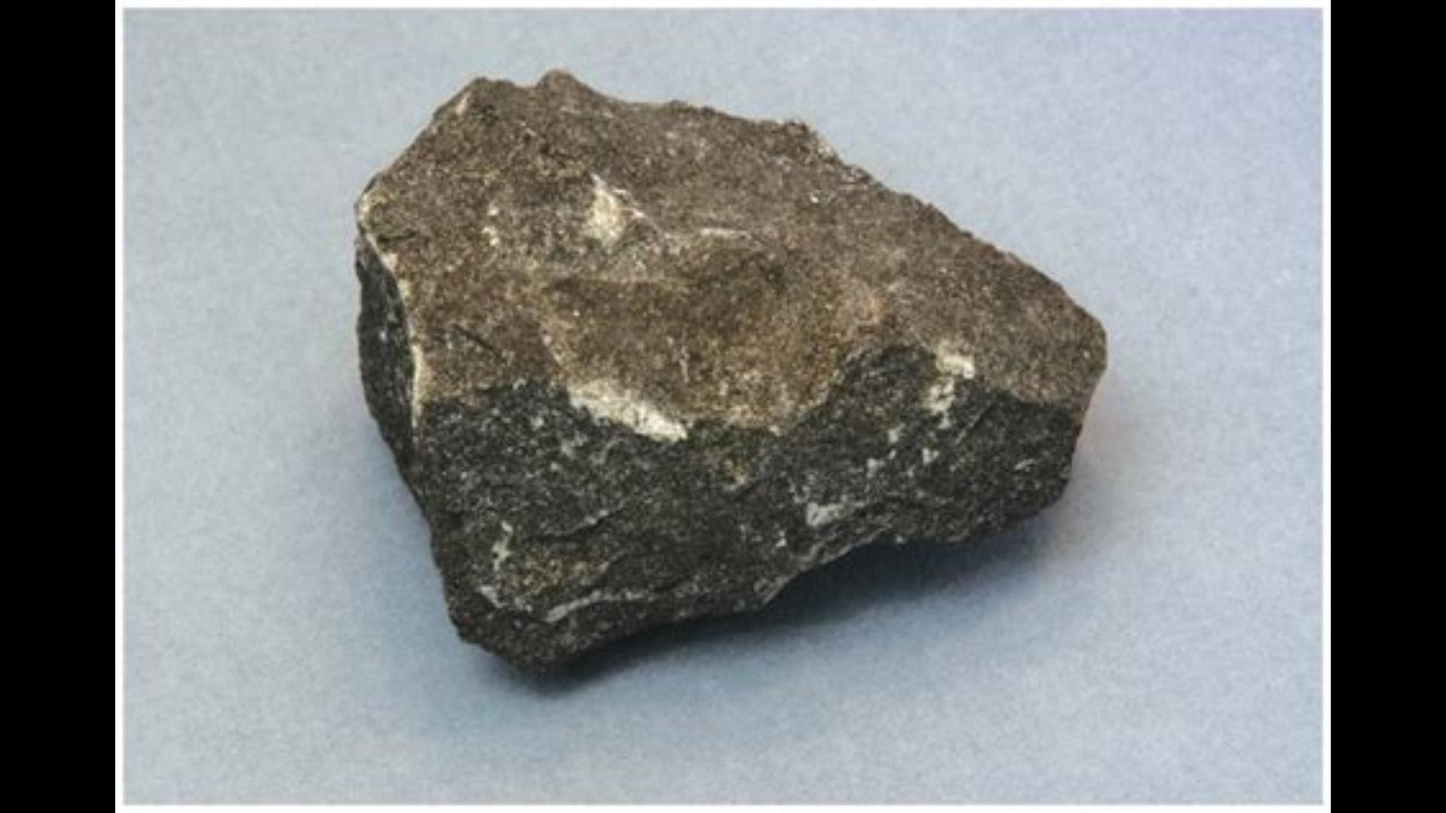rock: (359, 72, 1103, 659)
